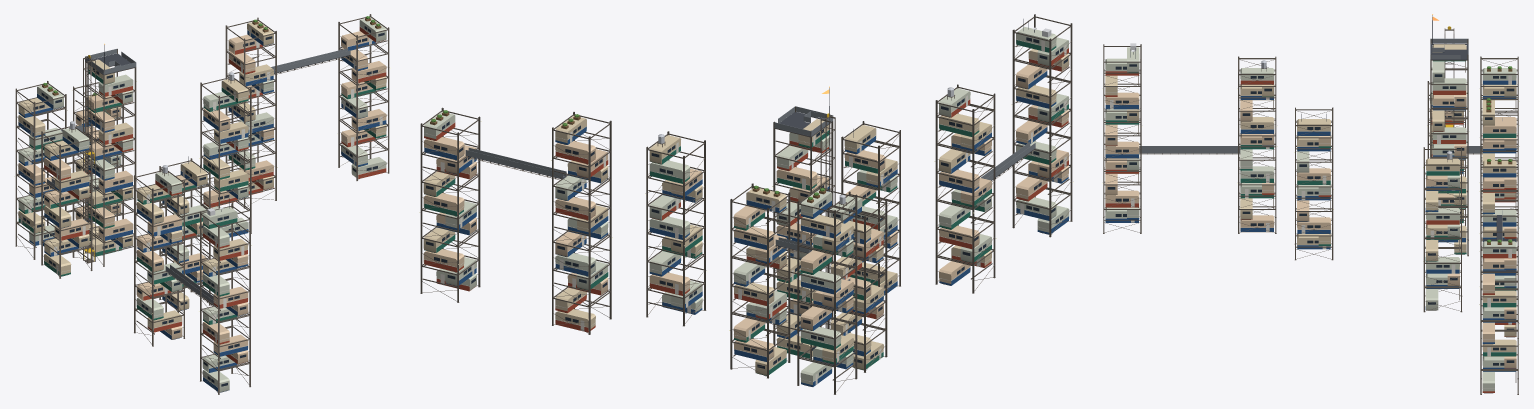
3 views of the same model, side by side, from view 1: azimuth 30°, elevation 25°; view 2: azimuth 150°, elevation 25°; view 3: azimuth 270°, elevation 25° (orthographic). The views are drawn at different scales.
Visible parts, largest first — view 1: vertical_towers.lod1; view 2: vertical_towers.lod1; view 3: vertical_towers.lod1.
Boxes of the visible parts, box(x1,y1,x2,y2) form: vertical_towers.lod1: box(14, 14, 390, 394); vertical_towers.lod1: box(419, 14, 1073, 394); vertical_towers.lod1: box(1102, 14, 1519, 394).
Bounding box in the file's own units: 84.02 × 49.92 × 83.22.
